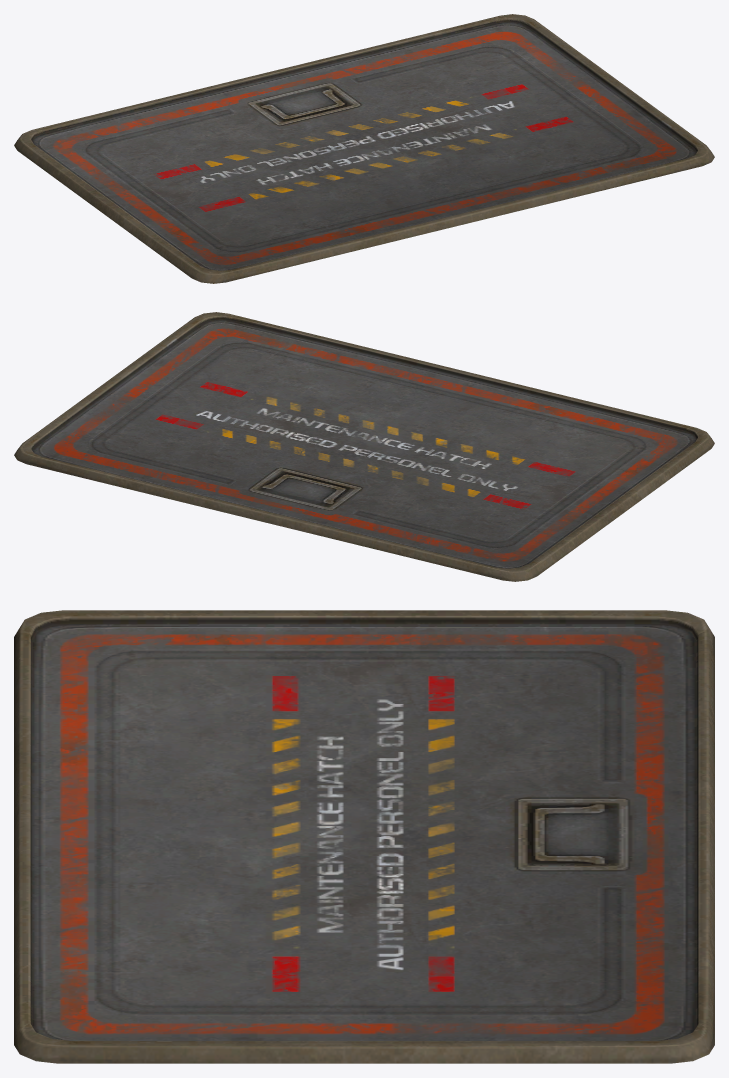
File: maintenance_hatch_tau.dae
3 views of the same model, one above another, from view 1: azimuth 30°, elevation 25°; view 2: azimuth 150°, elevation 25°; view 3: azimuth 270°, elevation 25° (orthographic). The views are drawn at different scales.
Parts seen in each view (by area): view 1: pCube2; view 2: pCube2; view 3: pCube2.
Part boxes in pixels (x1=…): pCube2: x1=14, y1=14, x2=714, y2=283; pCube2: x1=14, y1=312, x2=714, y2=581; pCube2: x1=14, y1=610, x2=714, y2=1063.
Bounding box in the file's own units: 1.99 × 0.0257 × 1.33.
